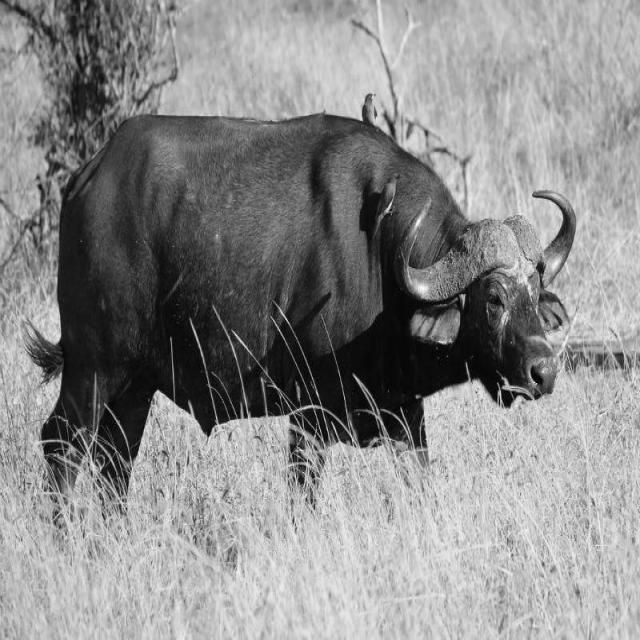Buffalo: (25, 115, 578, 546)
